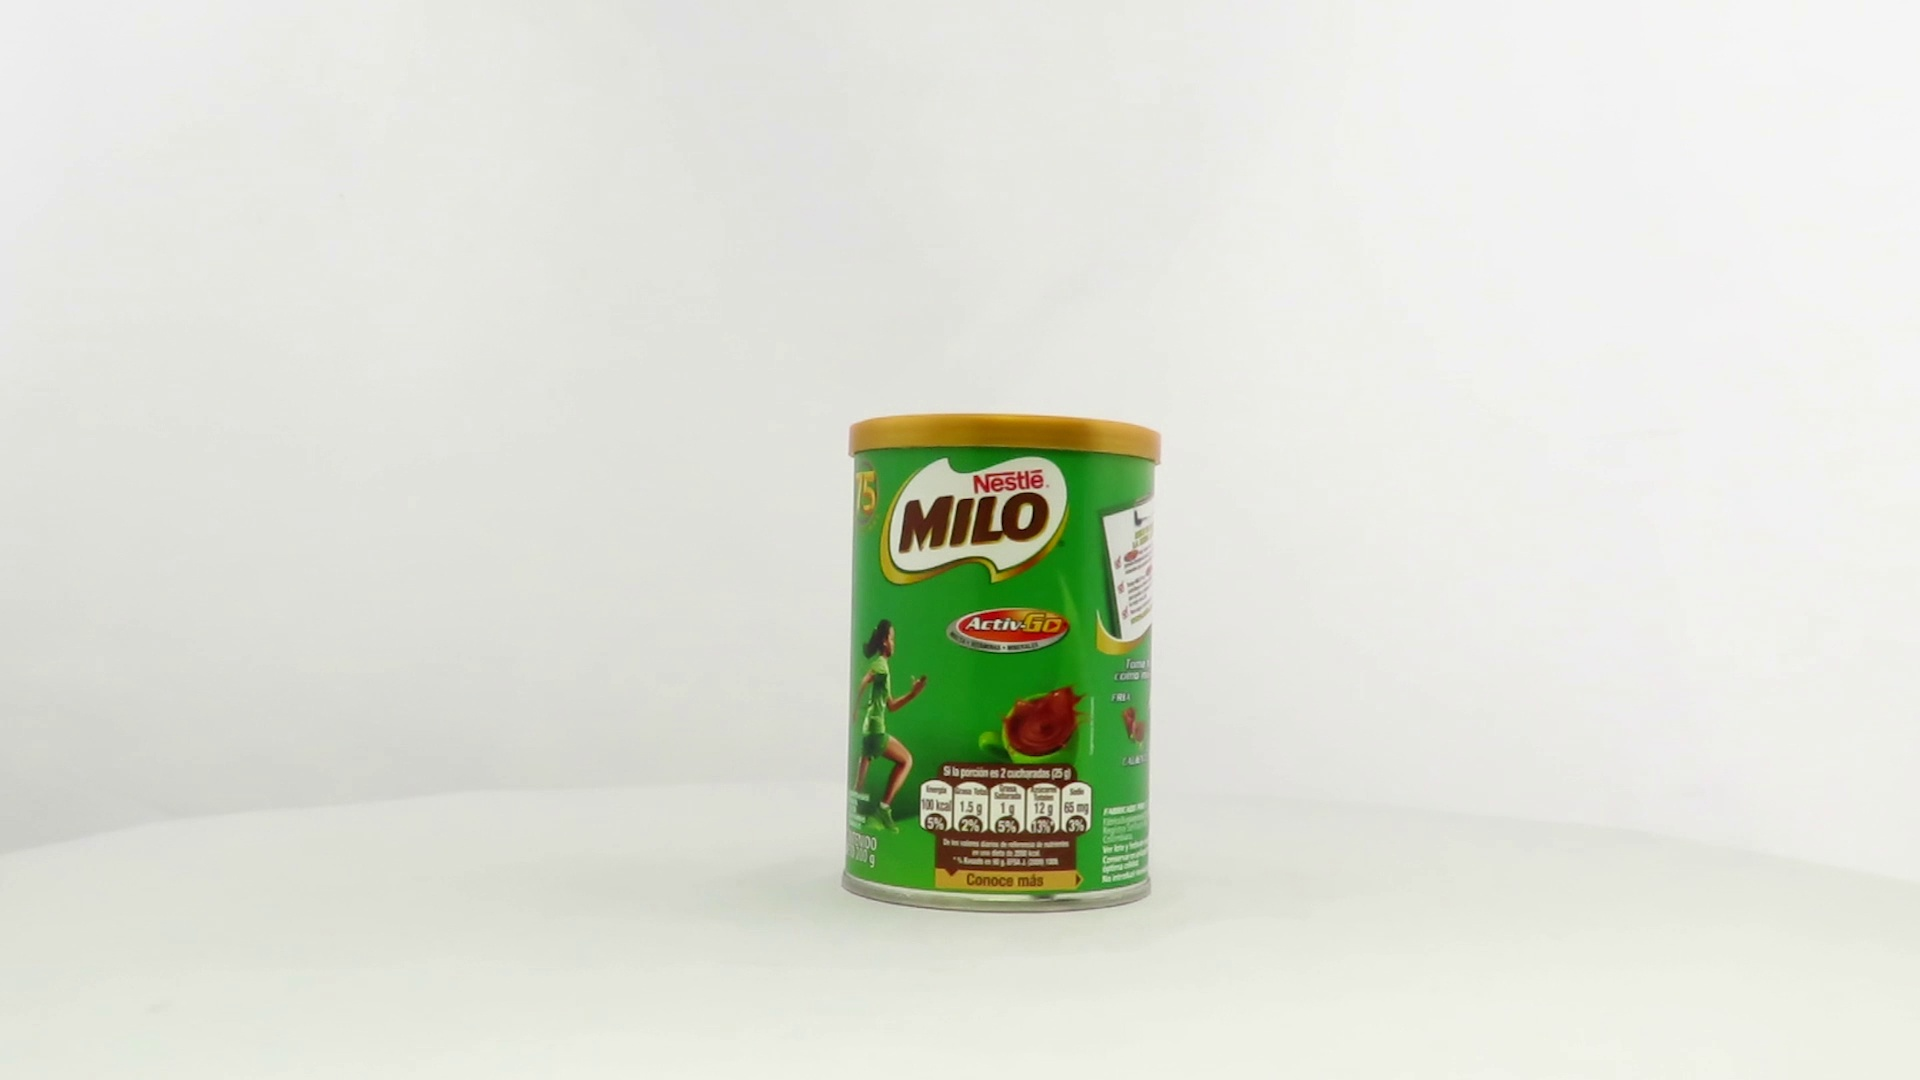COL0170203LAT20000: (836, 407, 1167, 920)
